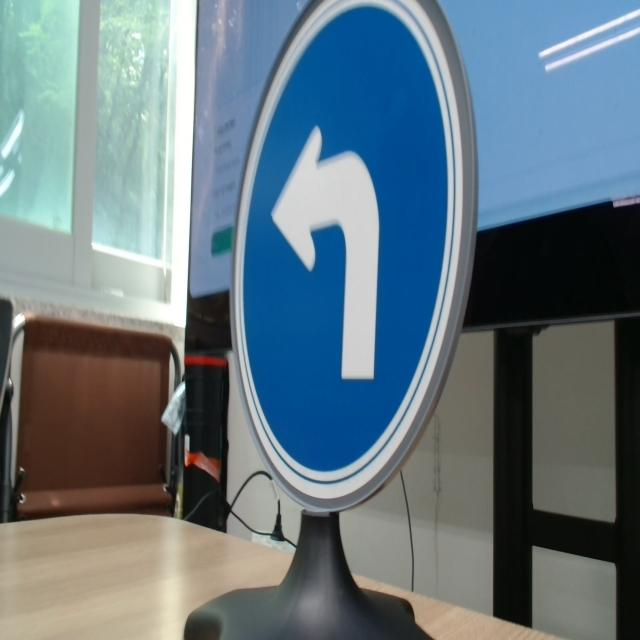left_direction: (232, 4, 477, 514)
